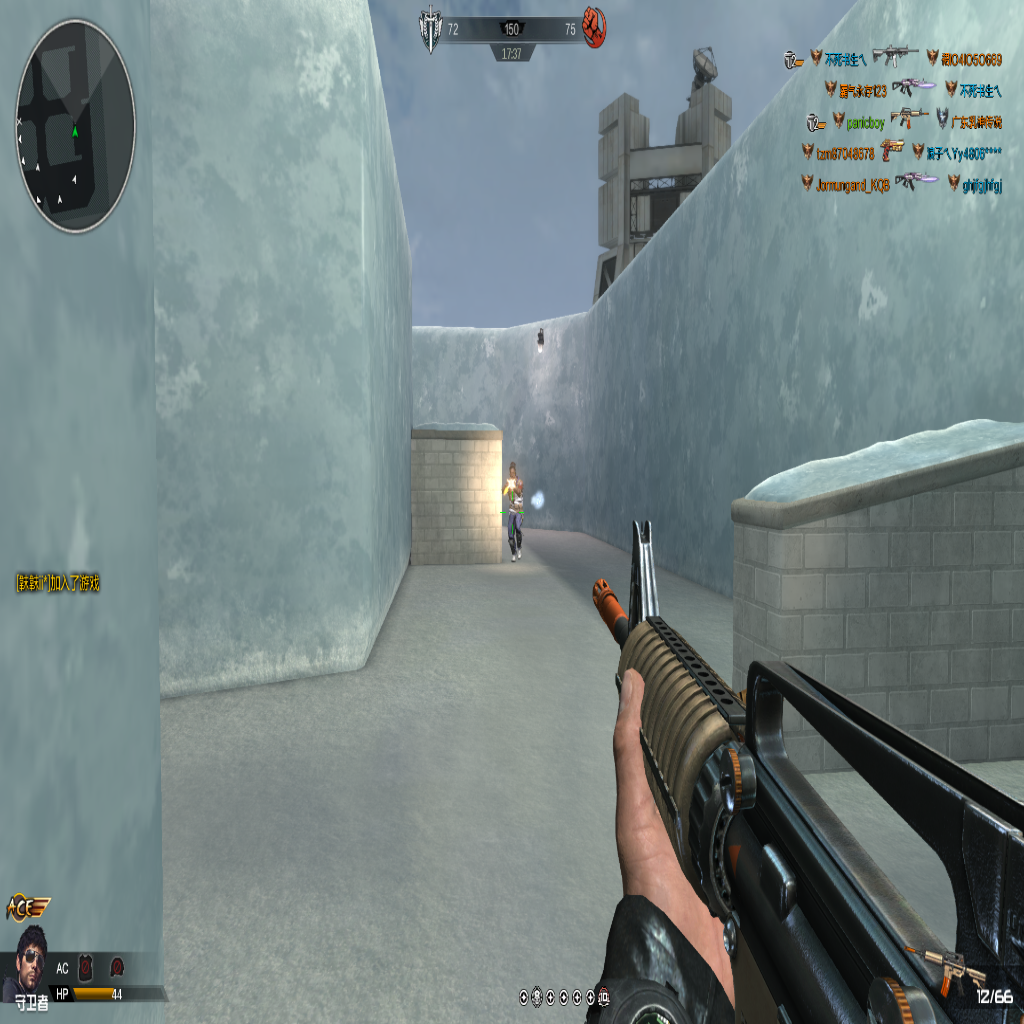tt: (505, 462, 523, 558)
